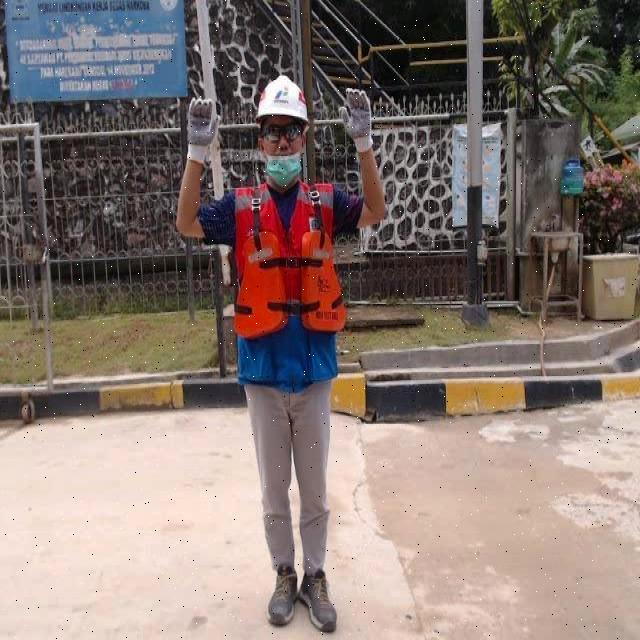Hard_hat: (250, 74, 312, 132)
Vest: (234, 189, 338, 344)
